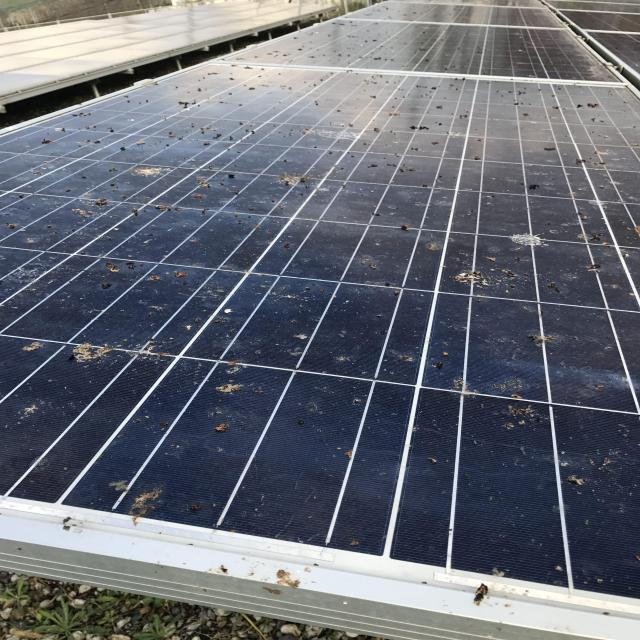soiled: (2, 62, 640, 640)
